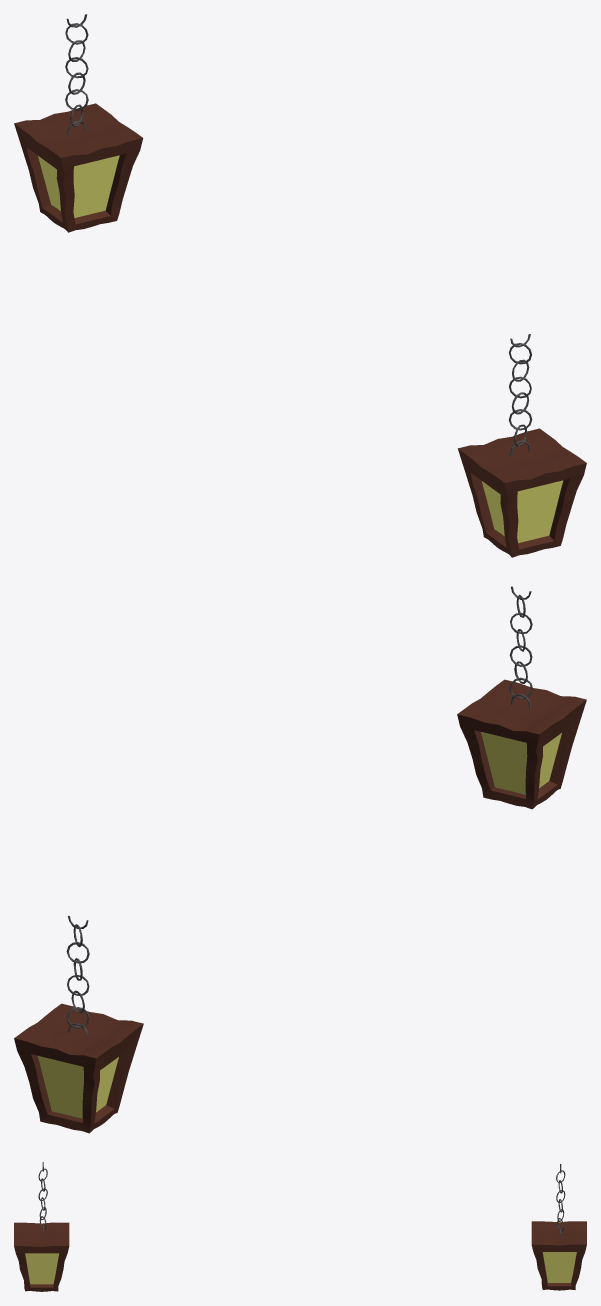
Rendered from lantern.glb.
The picture shows the model from 3 angles, top to bottom: view 1: azimuth 30°, elevation 25°; view 2: azimuth 150°, elevation 25°; view 3: azimuth 270°, elevation 25°; orthographic projection. The views are drawn at different scales.
Visible parts, largest first — view 1: lantern2, lantern; view 2: lantern2, lantern; view 3: lantern2, lantern.
Part boxes in pixels (box(x1,y1,x2,y2)): lantern2: box(457, 334, 586, 557); lantern: box(14, 14, 143, 232); lantern2: box(457, 586, 586, 809); lantern: box(14, 915, 143, 1133); lantern2: box(14, 1162, 69, 1291); lantern: box(531, 1164, 586, 1290).
Size of the model in its own units: 0.9581 by 2.25 by 9.75.
